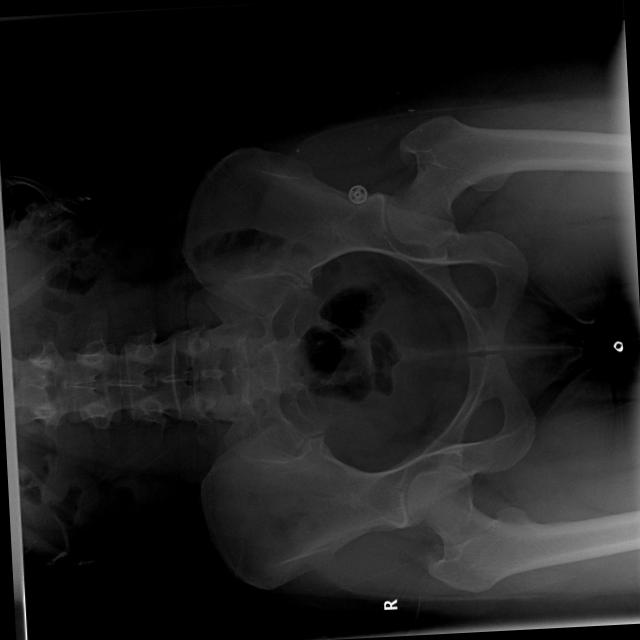normal-left: (387, 114, 594, 247)
normal-right: (407, 464, 618, 592)
